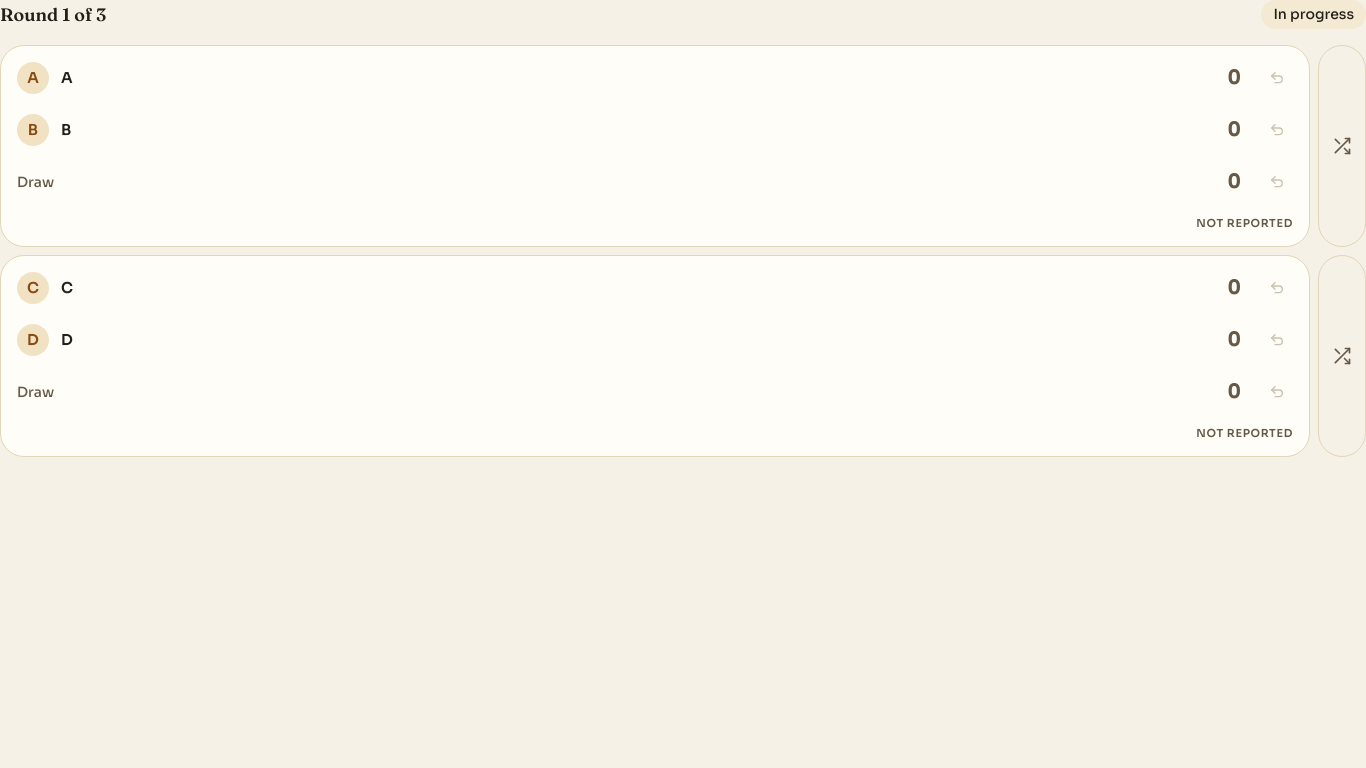
Test: the re-pair banner › appears after a swap on a round with later rounds
Click the button named "Swap A with another entrant": click(1342, 146) x1=1318 y1=45 x2=1365 y2=247
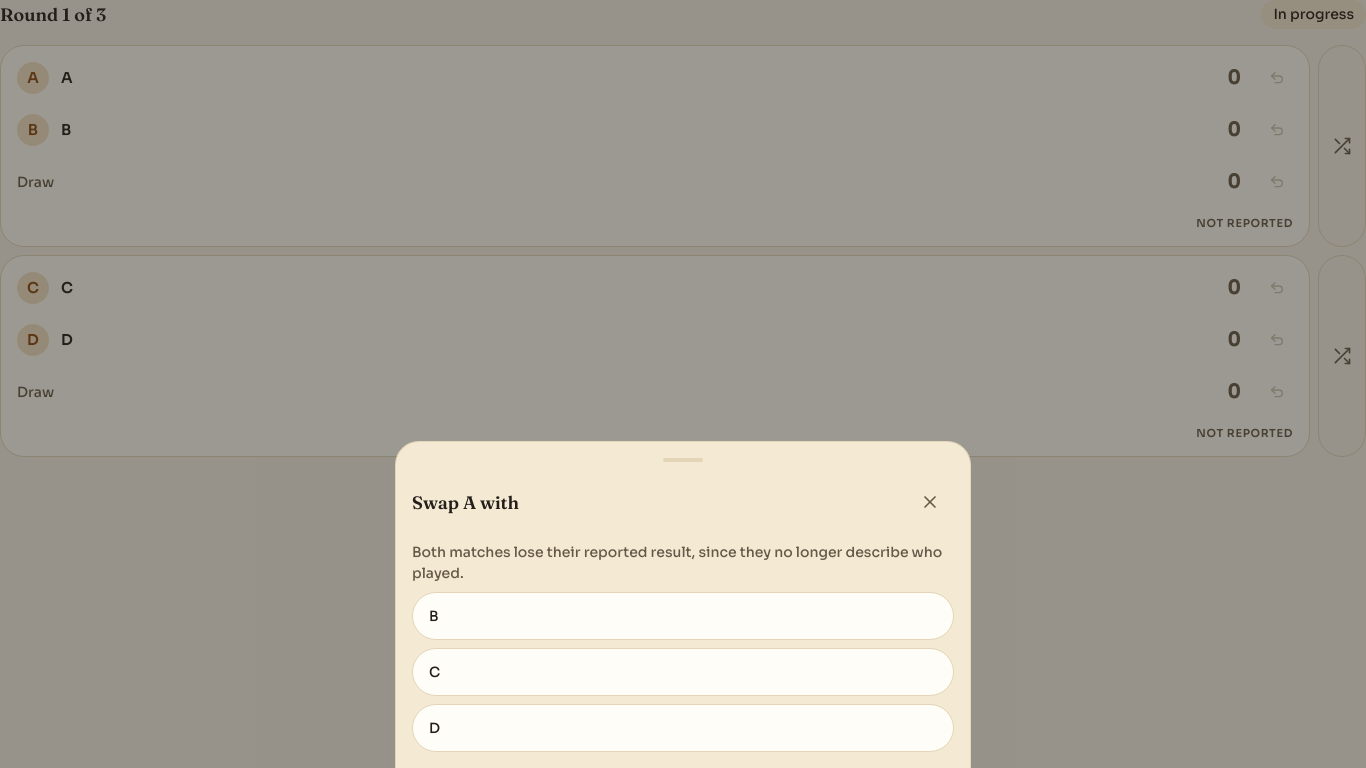
Click the button "C": click(435, 672) x1=412 y1=648 x2=954 y2=696
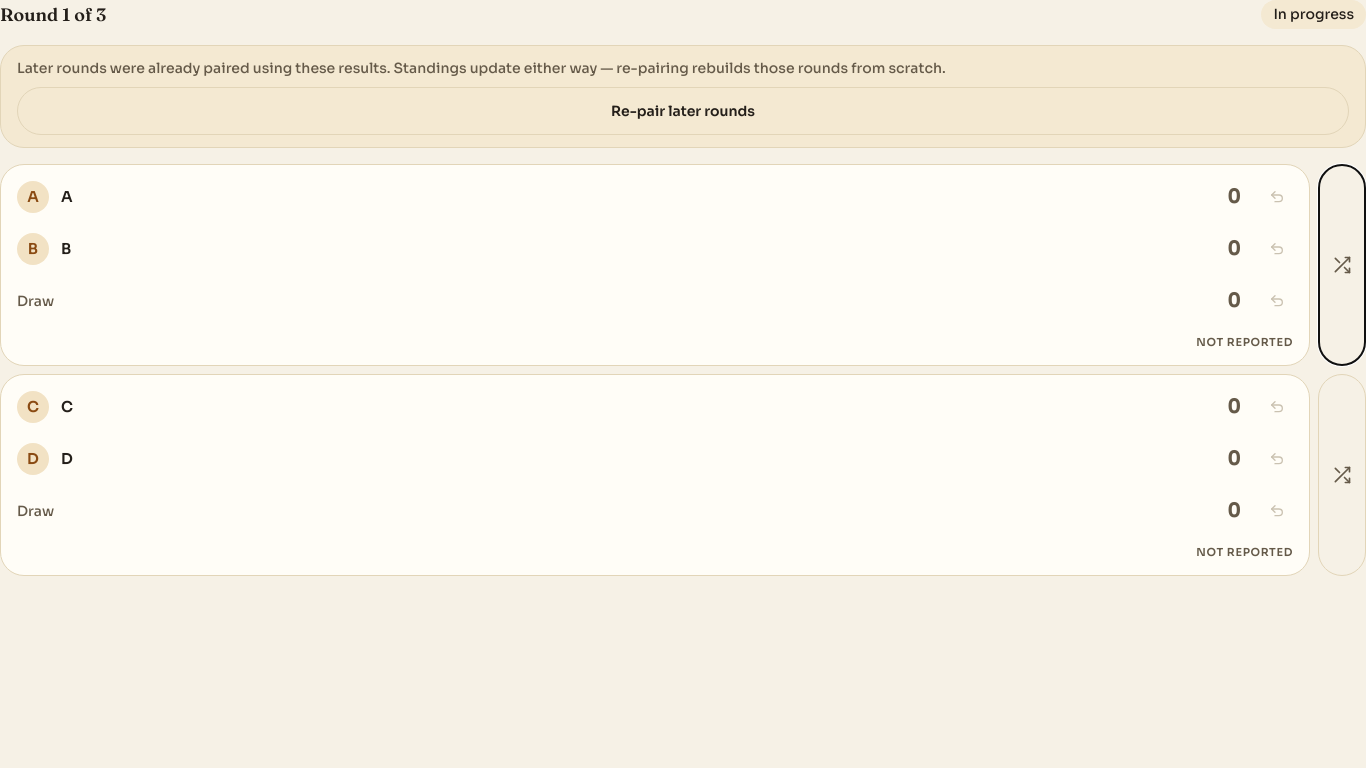
expect the button "Re-pair later rounds" is shown: met, box x1=17 y1=87 x2=1349 y2=135
